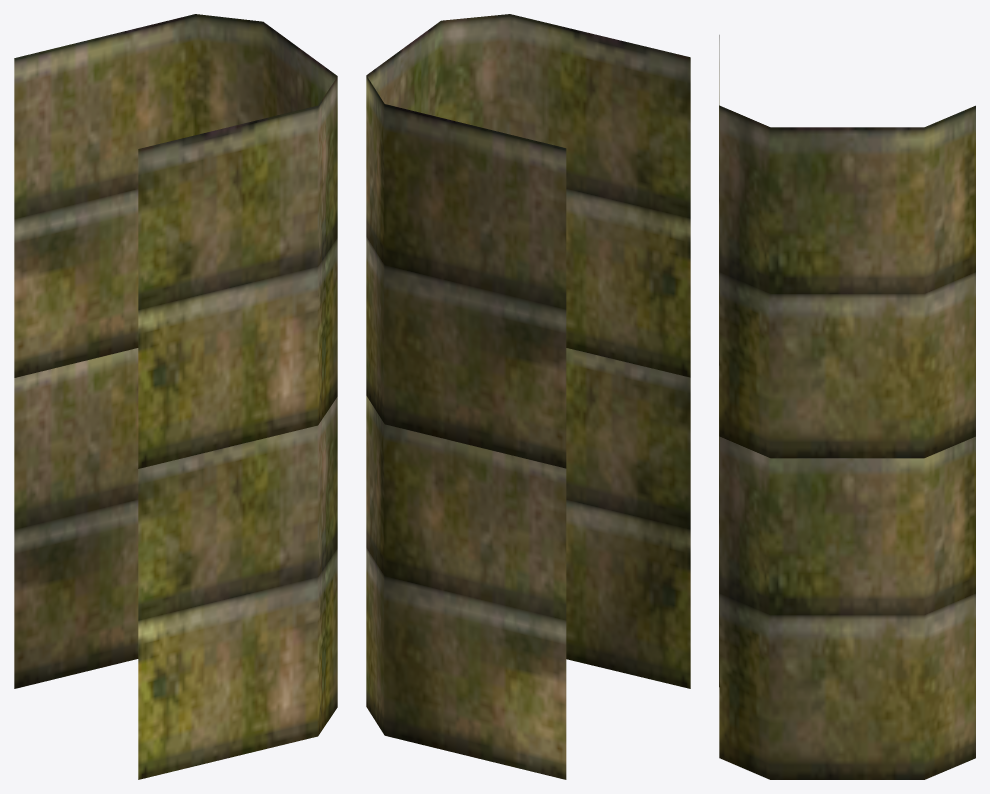
The model's file is OVERHILL_A_01_LINE415.fbx.
3 views of the same model, side by side, from view 1: azimuth 30°, elevation 25°; view 2: azimuth 150°, elevation 25°; view 3: azimuth 270°, elevation 25° (orthographic). The views are drawn at different scales.
Parts seen in each view (by area): view 1: OVERHILL_A_01_LINE415; view 2: OVERHILL_A_01_LINE415; view 3: OVERHILL_A_01_LINE415.
Boxes of the visible parts, <box> form: OVERHILL_A_01_LINE415: <box>14,14,337,779</box>; OVERHILL_A_01_LINE415: <box>366,14,690,779</box>; OVERHILL_A_01_LINE415: <box>719,35,975,779</box>.
Size of the model in its own units: 10021 by 26954 by 9604.
1 material, 1 textured.
